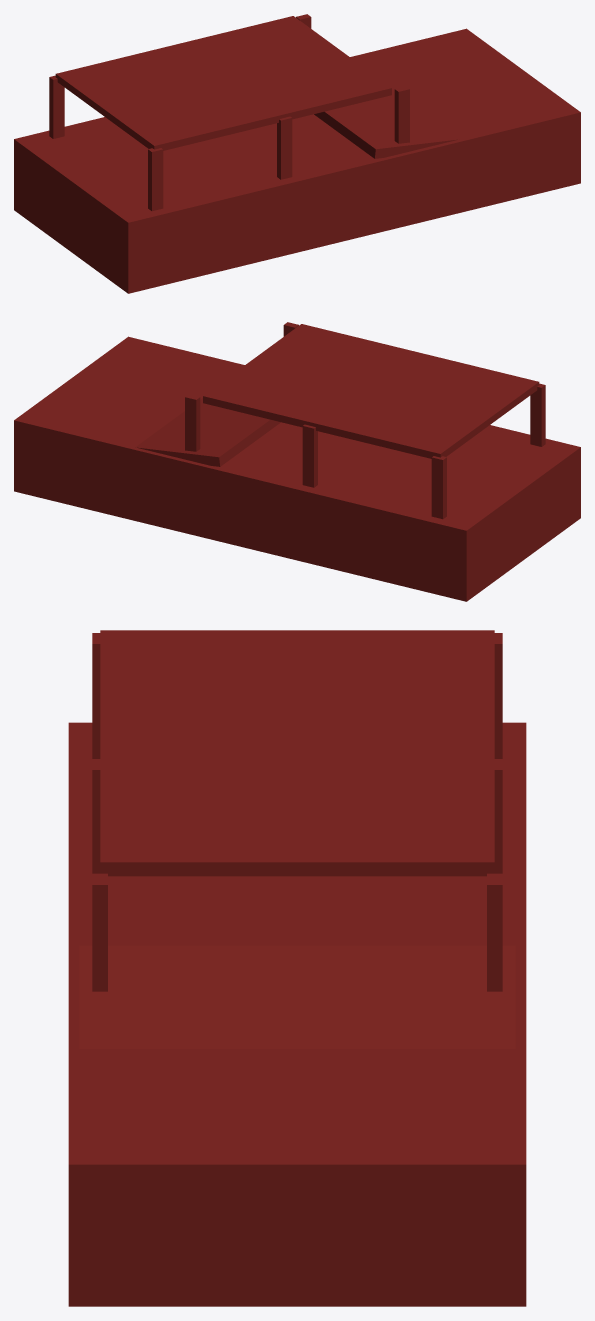
The model's file is SM_Car_2_Paint.glb.
The picture shows the model from 3 angles, top to bottom: view 1: azimuth 30°, elevation 25°; view 2: azimuth 150°, elevation 25°; view 3: azimuth 270°, elevation 25°; orthographic projection. The views are drawn at different scales.
Visible parts, largest first — view 1: SM_Car_2_Paint; view 2: SM_Car_2_Paint; view 3: SM_Car_2_Paint.
Boxes of the visible parts, box(x1,y1,x2,y2) form: SM_Car_2_Paint: box(14, 14, 580, 293); SM_Car_2_Paint: box(14, 322, 580, 601); SM_Car_2_Paint: box(68, 630, 526, 1306).
Bounding box in the file's own units: 4 × 1.13 × 1.75.
